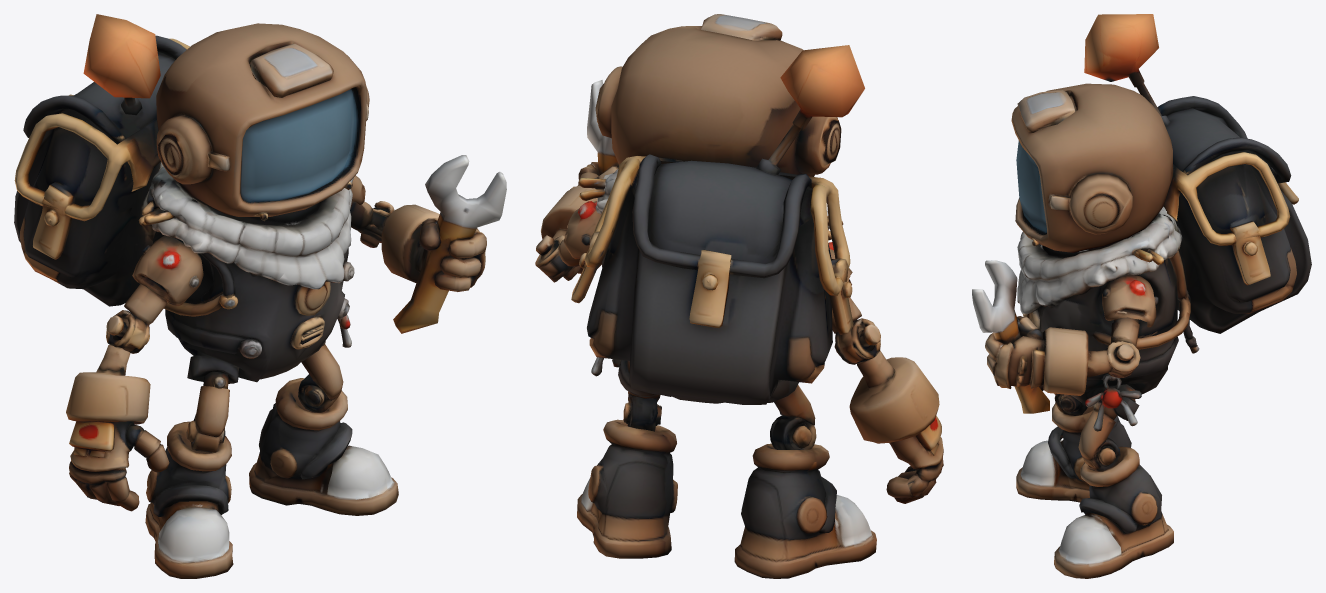
The model's file is asset.glb.
3 renders of one model, left to right at view 1: azimuth 30°, elevation 25°; view 2: azimuth 150°, elevation 25°; view 3: azimuth 270°, elevation 25°, orthographic. The views are drawn at different scales.
Parts seen in each view (by area): view 1: tripo_node_bf3f0ad6-509e-455c-9526-6ee57a04edc7; view 2: tripo_node_bf3f0ad6-509e-455c-9526-6ee57a04edc7; view 3: tripo_node_bf3f0ad6-509e-455c-9526-6ee57a04edc7.
Part boxes in pixels (<box>): tripo_node_bf3f0ad6-509e-455c-9526-6ee57a04edc7: <box>14,14,506,578</box>; tripo_node_bf3f0ad6-509e-455c-9526-6ee57a04edc7: <box>535,14,943,578</box>; tripo_node_bf3f0ad6-509e-455c-9526-6ee57a04edc7: <box>972,14,1311,578</box>.
Size of the model in its own units: 0.7715 by 0.998 by 0.6738.
Materials: 1 (1 with a texture image).
